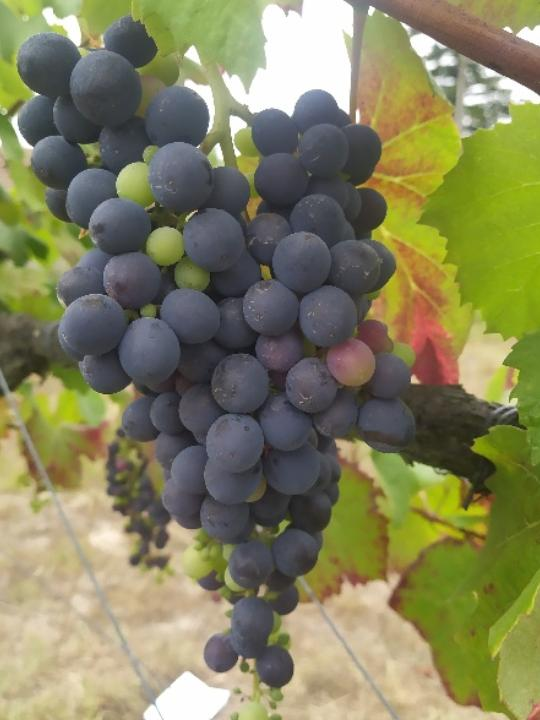grape: (15, 13, 416, 720)
